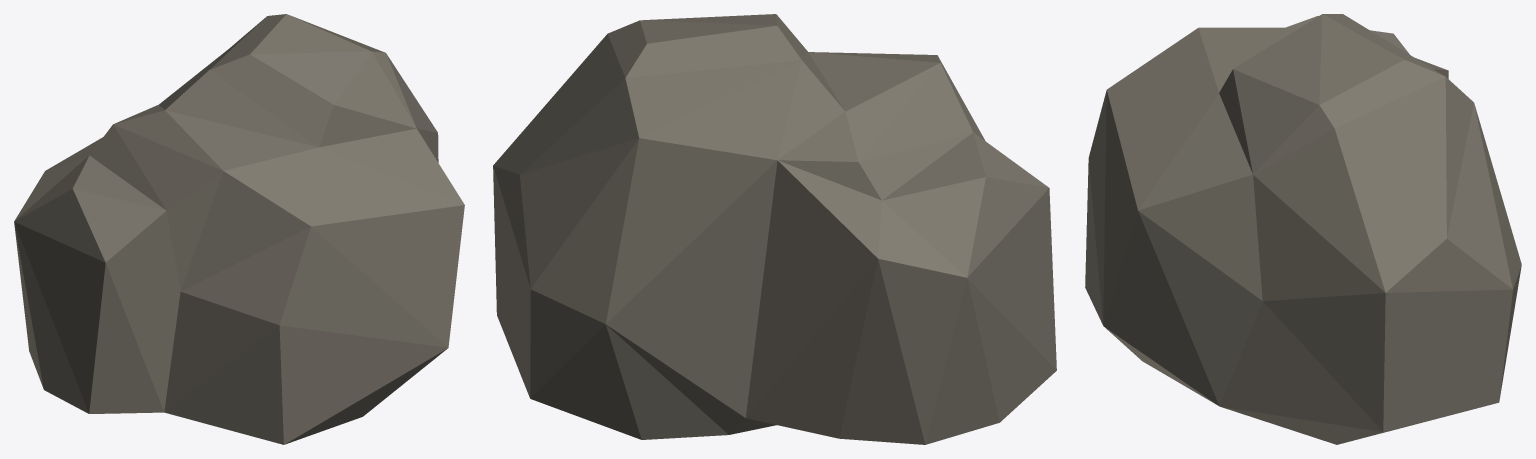
File: projectile.glb
The picture shows the model from 3 angles, left to right: view 1: azimuth 30°, elevation 25°; view 2: azimuth 150°, elevation 25°; view 3: azimuth 270°, elevation 25°; orthographic projection. The views are drawn at different scales.
Parts seen in each view (by area): view 1: rock2.cave.light; view 2: rock2.cave.light; view 3: rock2.cave.light.
Boxes of the visible parts, x1=… form: rock2.cave.light: x1=14, y1=14, x2=464, y2=444; rock2.cave.light: x1=493, y1=14, x2=1056, y2=444; rock2.cave.light: x1=1085, y1=14, x2=1521, y2=444.
Bounding box in the file's own units: 3.5 × 2.59 × 2.93.
Materials: 1 (1 with a texture image).
